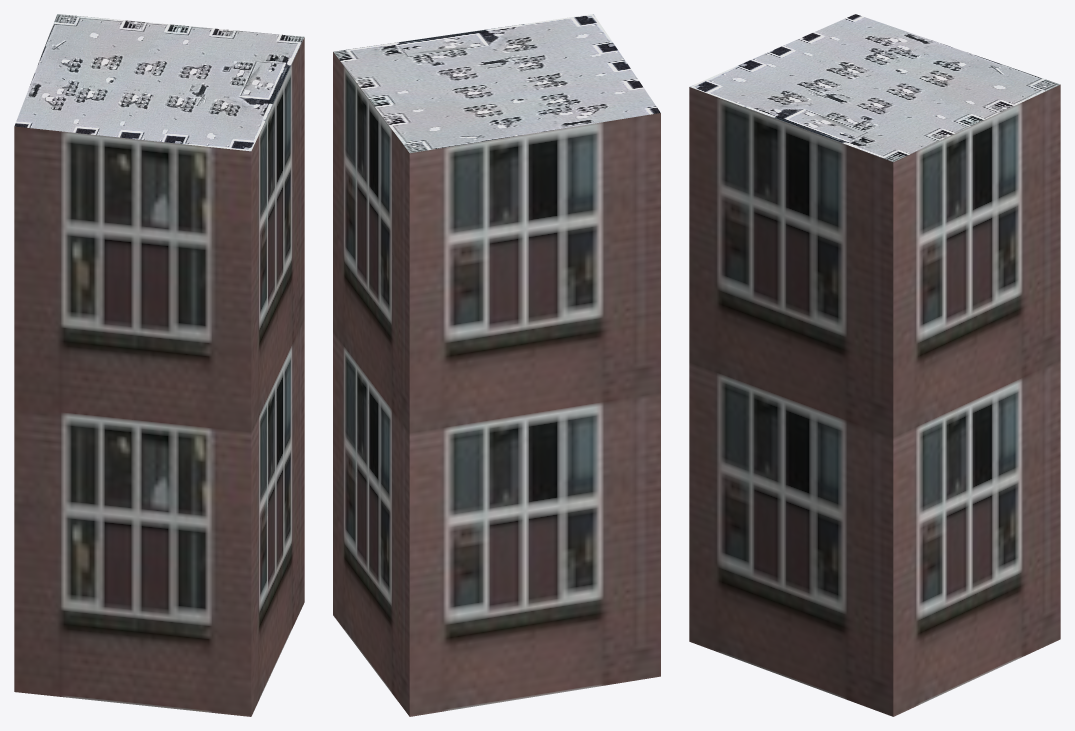
The model's file is ResTex__2161.fbx.
3 views of the same model, side by side, from view 1: azimuth 30°, elevation 25°; view 2: azimuth 150°, elevation 25°; view 3: azimuth 270°, elevation 25° (orthographic).
Parts seen in each view (by area): view 1: CityEngineMaterial_12_m, CityEngineMaterial_4_m; view 2: CityEngineMaterial_12_m, CityEngineMaterial_4_m; view 3: CityEngineMaterial_12_m, CityEngineMaterial_4_m.
Boxes of the visible parts, box(x1,y1,x2,y2) form: CityEngineMaterial_12_m: box(14, 37, 304, 716); CityEngineMaterial_4_m: box(14, 14, 304, 151); CityEngineMaterial_12_m: box(333, 52, 660, 716); CityEngineMaterial_4_m: box(333, 14, 660, 153); CityEngineMaterial_12_m: box(689, 84, 1060, 716); CityEngineMaterial_4_m: box(689, 14, 1060, 161).
Bounding box in the file's own units: 3.44 × 6 × 3.64.
Materials: 2 (2 with a texture image).
